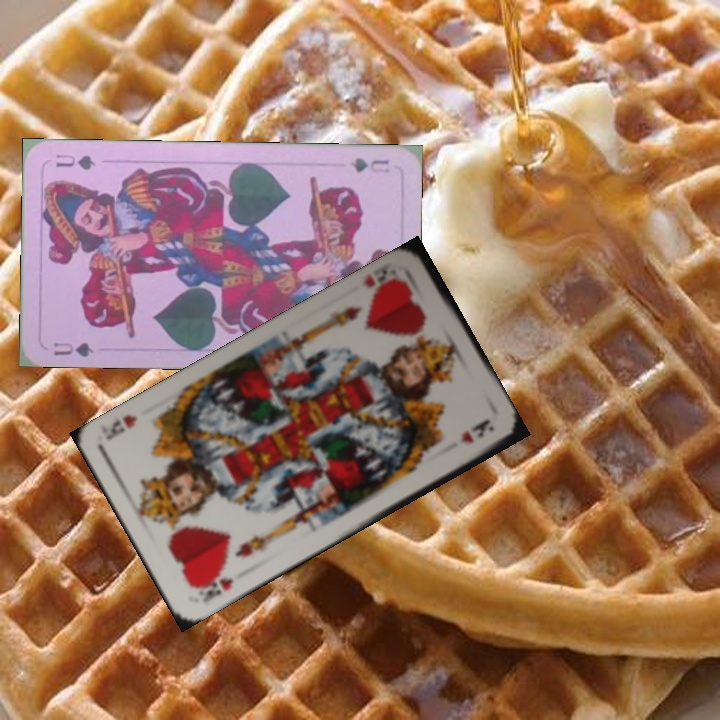GU: (50, 338, 96, 359), (346, 154, 392, 175)
HK: (357, 264, 407, 300), (192, 570, 236, 606)
